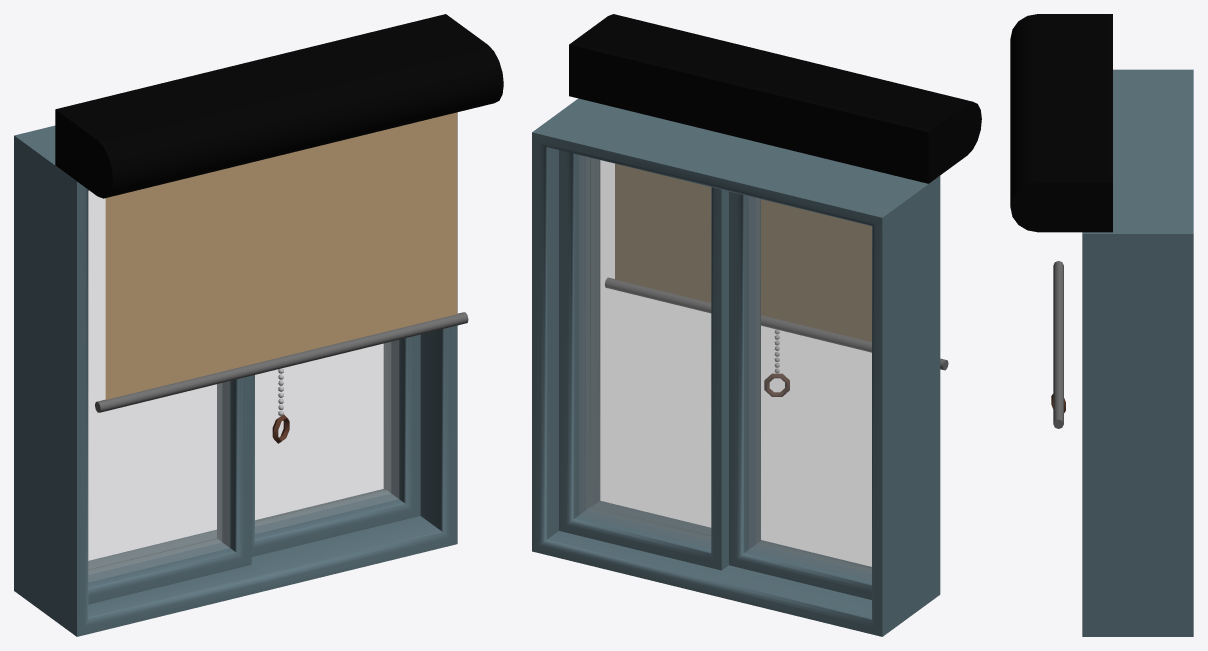
3 renders of one model, left to right at view 1: azimuth 30°, elevation 25°; view 2: azimuth 150°, elevation 25°; view 3: azimuth 270°, elevation 25°, orthographic. The views are drawn at different scales.
Parts seen in each view (by area): view 1: Window.003; view 2: Window.003; view 3: Window.003.
Boxes of the visible parts, left/top/right/bottom form: Window.003: left=14, top=14, right=503, bottom=636; Window.003: left=532, top=14, right=981, bottom=636; Window.003: left=1010, top=14, right=1193, bottom=636.
Bounding box in the file's own units: 1.44 × 1.81 × 0.659.
Materials: 2 (1 with a texture image).
